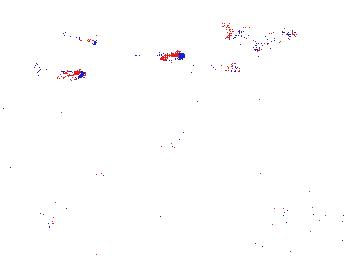glassfish: (83, 129, 190, 192)
red belly glassfish: (57, 25, 99, 50), (191, 57, 240, 76), (39, 64, 86, 82), (137, 49, 186, 66)
redtail glassfish: (224, 23, 301, 47)
